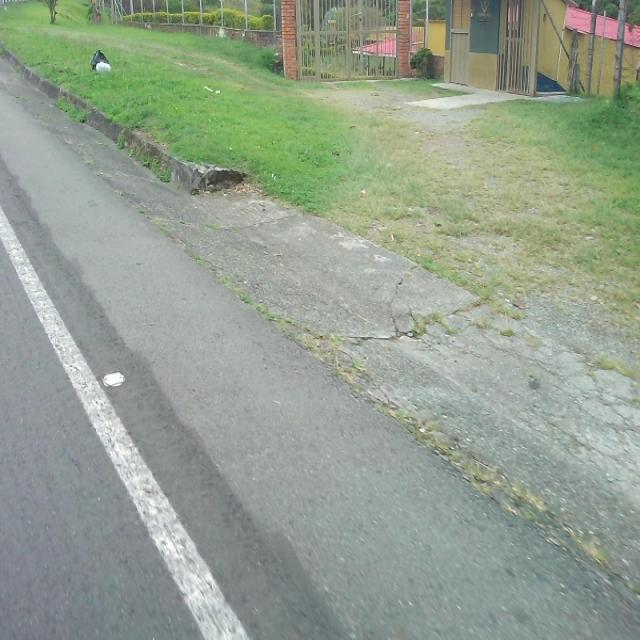DITCH: (1, 43, 638, 638)
